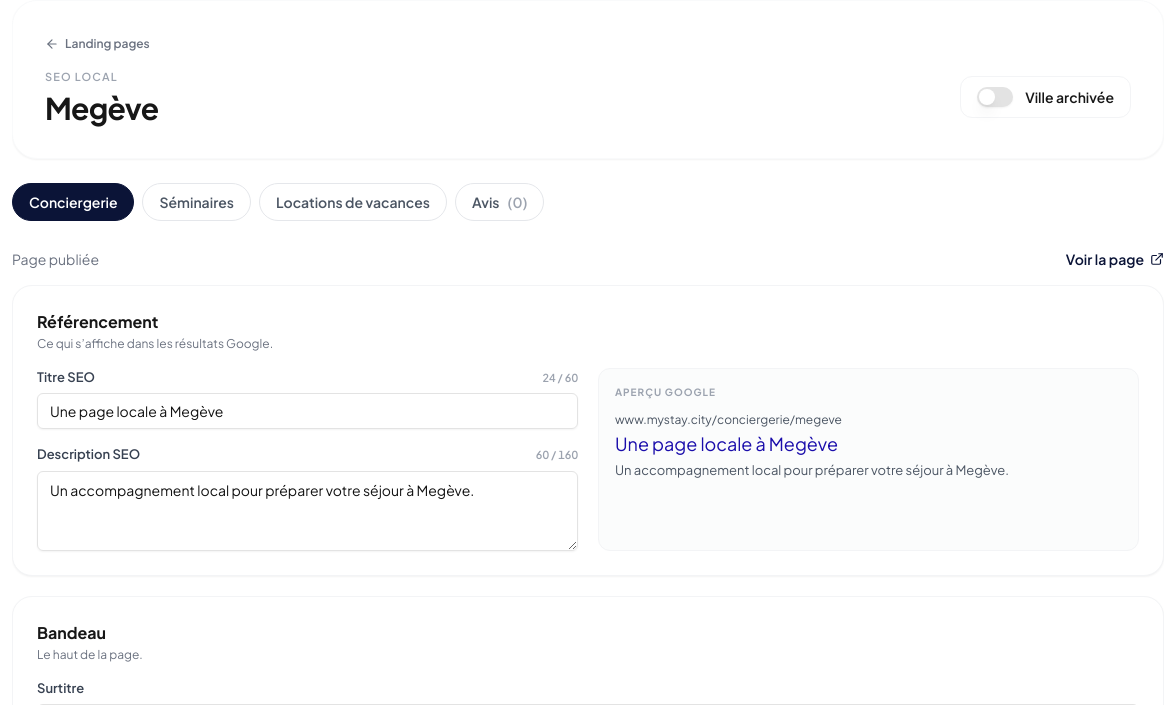
076 — page ville › activation refusée : retour arrière et détail des champs
Click the switch named "Activer Megève" at coordinates (995, 97), box [977, 87, 1013, 107]
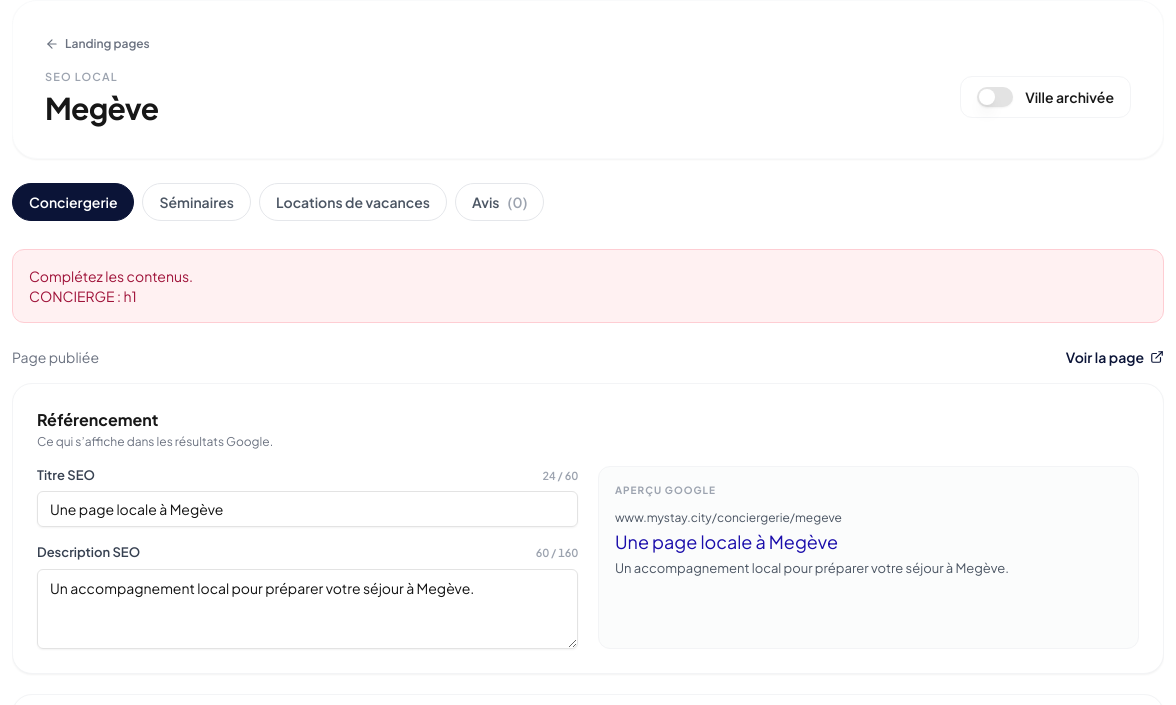
Check: the message shows "Complétez les contenus.", box [29, 266, 193, 284]
